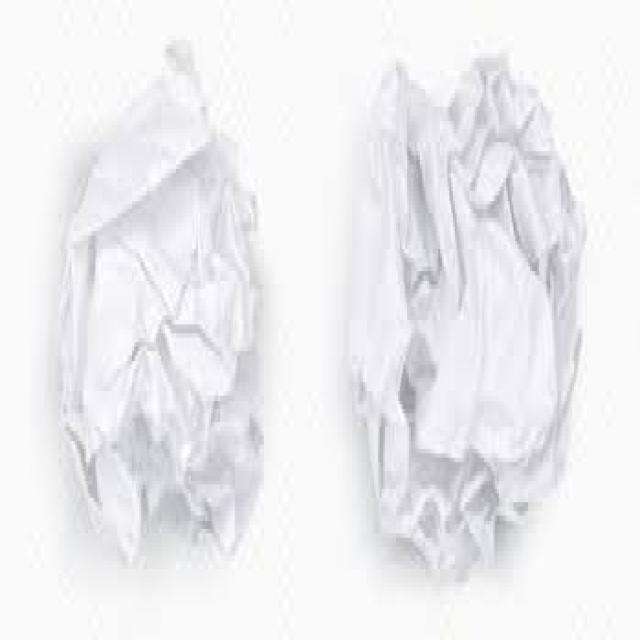crampled paper: (60, 48, 262, 565)
